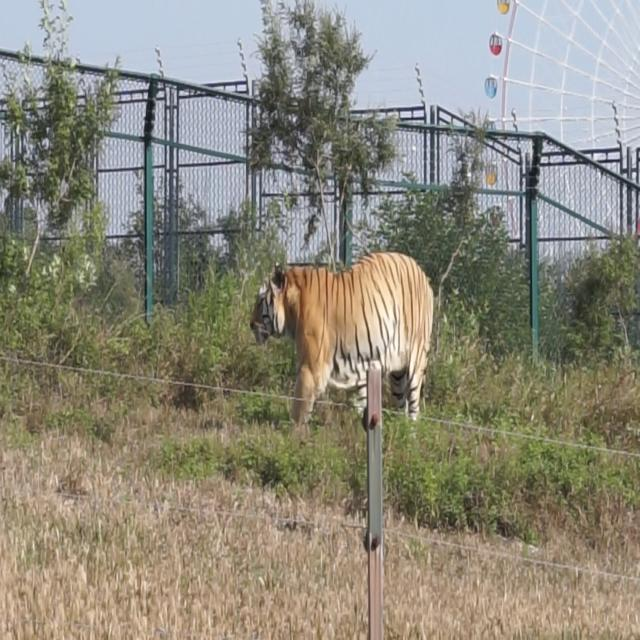Tiger: (241, 242, 450, 434)
